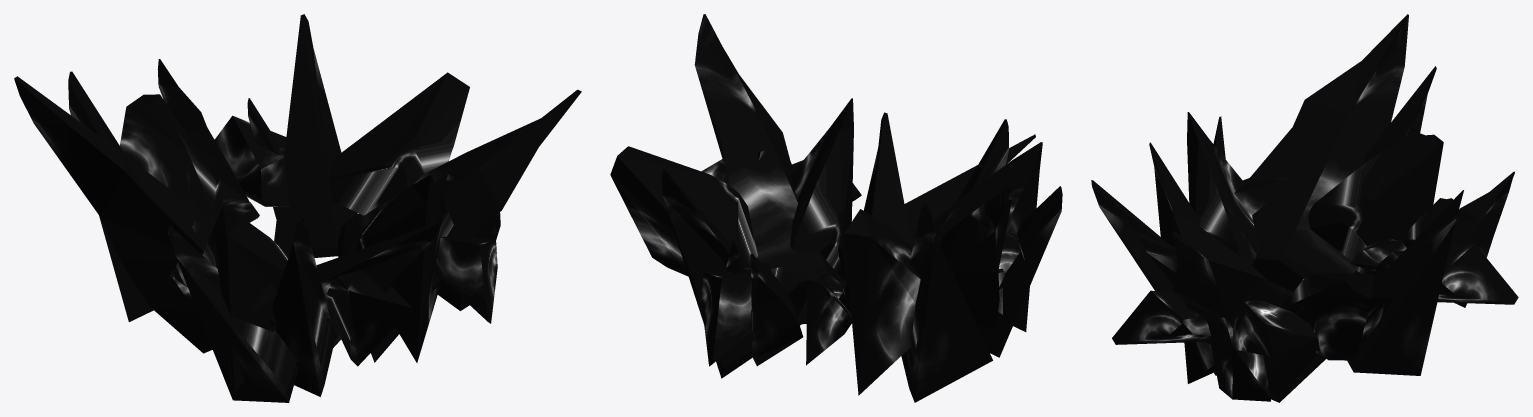
The model's file is 0288_dilie_01.glb.
3 renders of one model, left to right at view 1: azimuth 30°, elevation 25°; view 2: azimuth 150°, elevation 25°; view 3: azimuth 270°, elevation 25°, orthographic. The views are drawn at different scales.
Bounding box in the file's own units: 2.2 × 1.32 × 2.03.
Materials: 1 (1 with a texture image).
